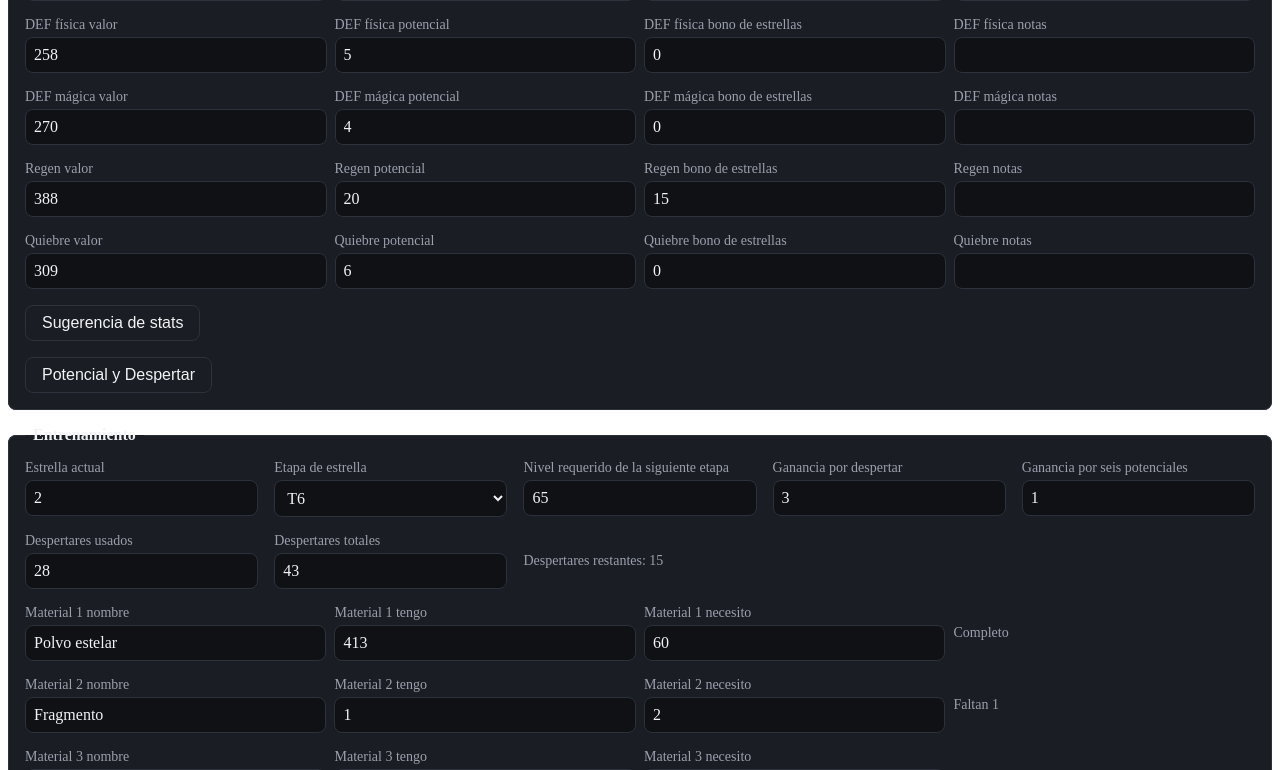
Test: apertura de la seccion › preselecciona el objeto equipado por nombre
(page scrolled)
Click the button "Potencial y Despertar": [118, 375] box [25,357,212,393]
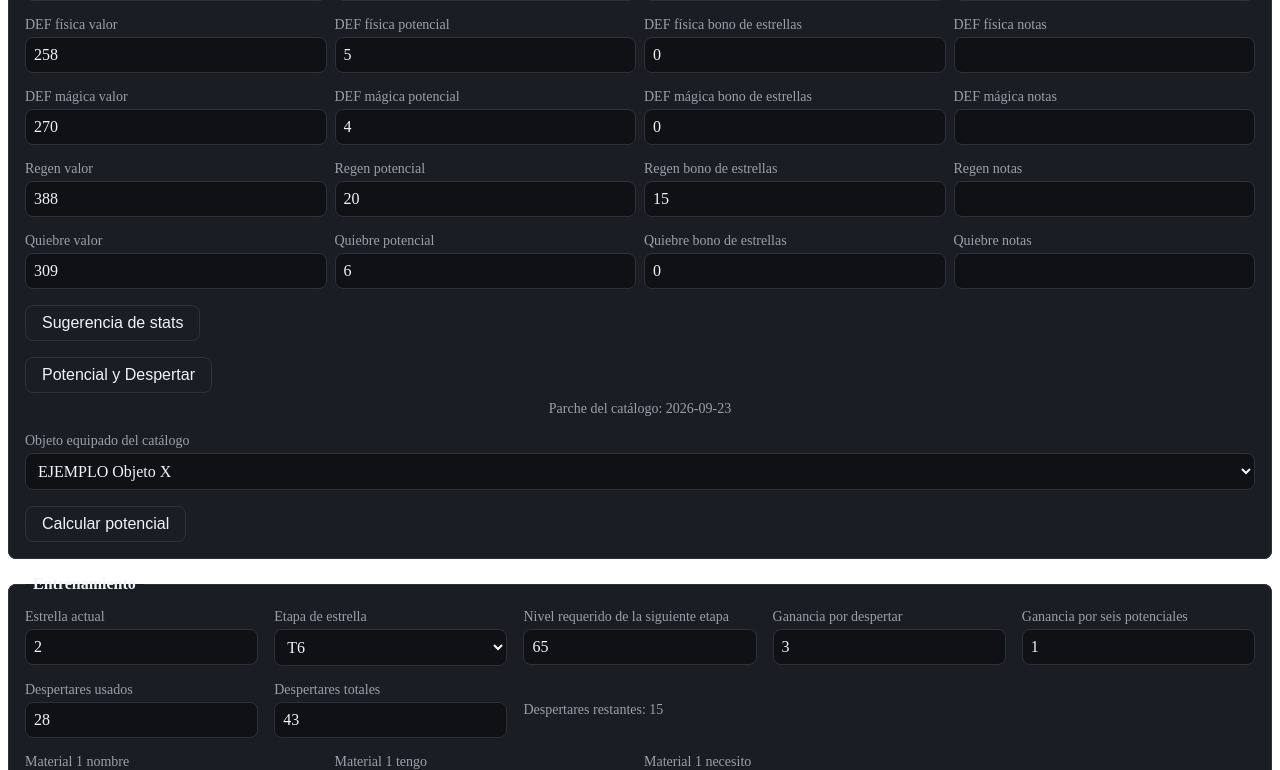
Expected: the button "Calcular potencial" is shown, [25,506,186,542]
Expected: the dropdown labelled "Objeto equipado del catálogo" shows "EJEMPLO Objeto X", [25,453,1255,490]
